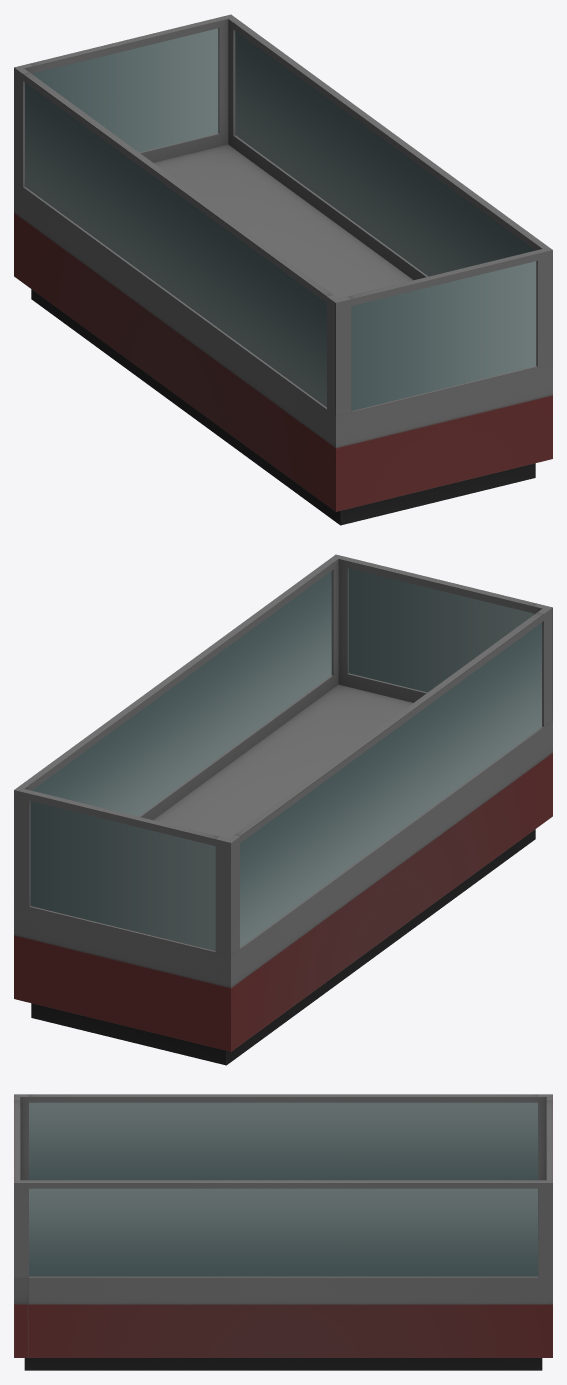
File: sp_refrigerated_3.FBX
3 views of the same model, one above another, from view 1: azimuth 30°, elevation 25°; view 2: azimuth 150°, elevation 25°; view 3: azimuth 270°, elevation 25° (orthographic). The views are drawn at different scales.
Visible parts, largest first — view 1: sp_refrigerated_3; view 2: sp_refrigerated_3; view 3: sp_refrigerated_3.
Part boxes in pixels (x1,y1,x2,y2): sp_refrigerated_3: (14,14,552,525); sp_refrigerated_3: (14,554,552,1065); sp_refrigerated_3: (14,1094,552,1370).
Size of the model in its own units: 38.7 by 99.37 by 39.13.
